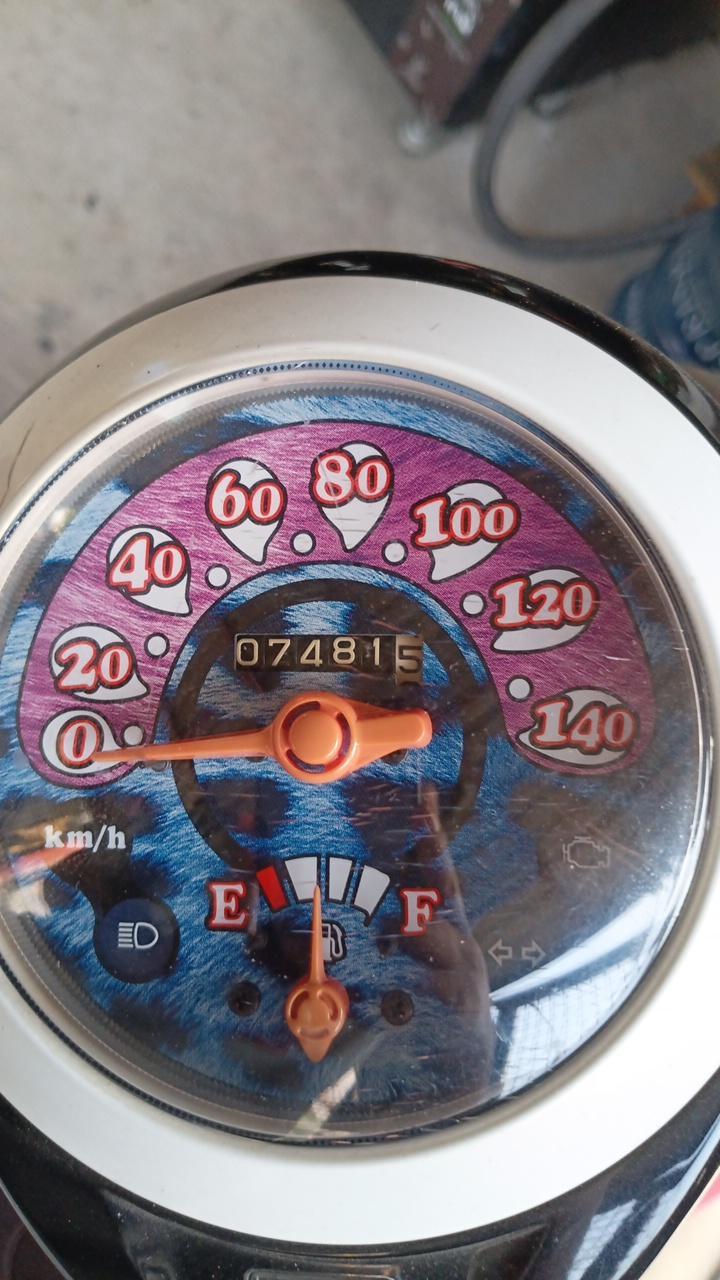0: (237, 638, 259, 666)
1: (372, 636, 382, 667)
4: (299, 638, 323, 668)
5: (397, 643, 423, 674)
7: (268, 638, 291, 667)
8: (331, 636, 356, 666)
odometer: (233, 631, 424, 687)
